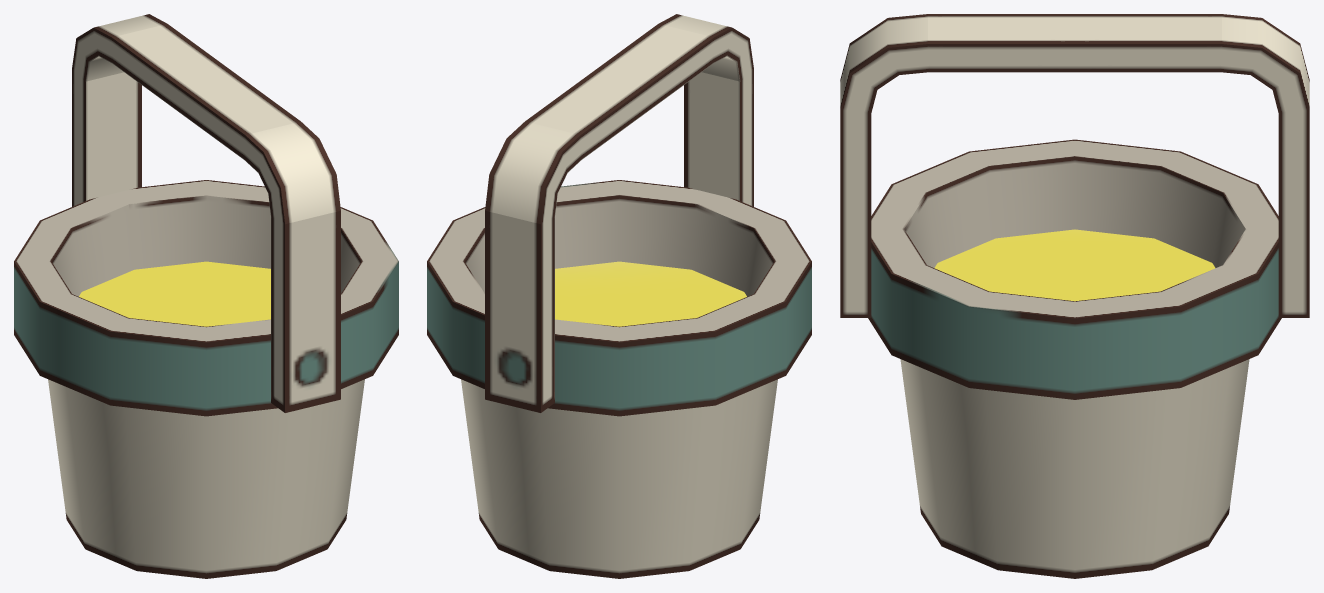
File: honeypot.fbx
3 renders of one model, left to right at view 1: azimuth 30°, elevation 25°; view 2: azimuth 150°, elevation 25°; view 3: azimuth 270°, elevation 25°, orthographic. The views are drawn at different scales.
Parts seen in each view (by area): view 1: Bucket_of_water; view 2: Bucket_of_water; view 3: Bucket_of_water.
Part boxes in pixels (x1,y1,x2,y2): Bucket_of_water: (14,14,398,578); Bucket_of_water: (427,14,811,578); Bucket_of_water: (840,14,1309,578).
Size of the model in its own units: 6923 by 8742 by 7669.
Materials: 1 (1 with a texture image).
